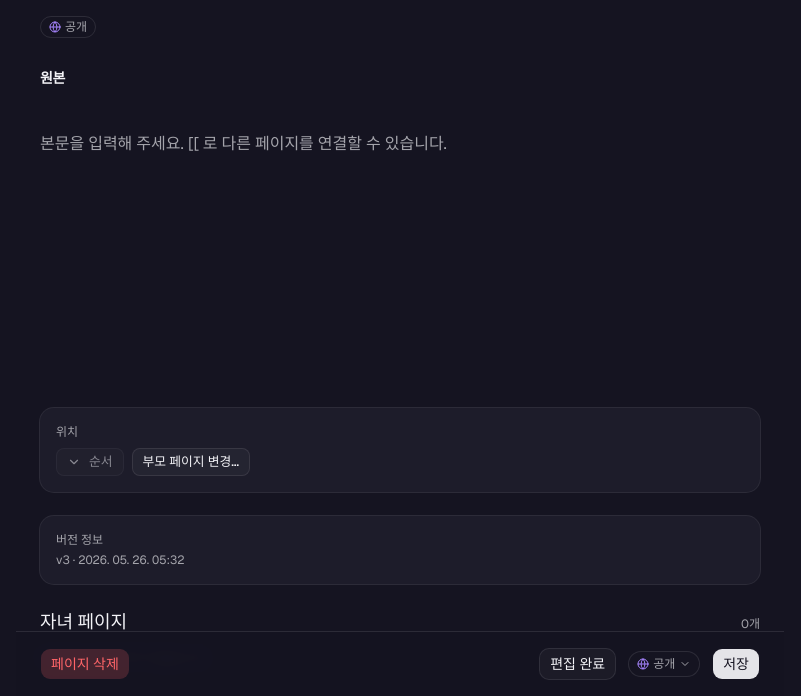
Test: PageEditView › 저장 버튼은 제목이 비어 있으면 비활성화된다
expect the button "저장" is enabled: met, box [712,648,760,680]
Clear the field showing "원본" at (400, 78), box [40,64,760,92]
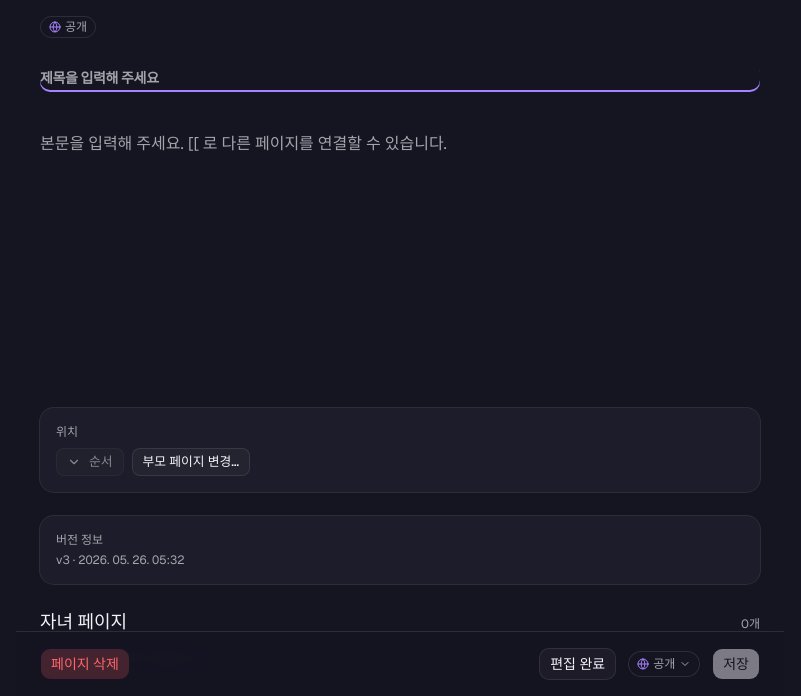
expect the button "저장" is disabled: met, box [712,648,760,680]
